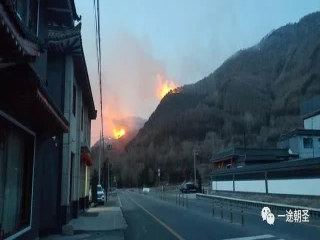fire: (152, 76, 182, 100), (106, 121, 131, 143)
